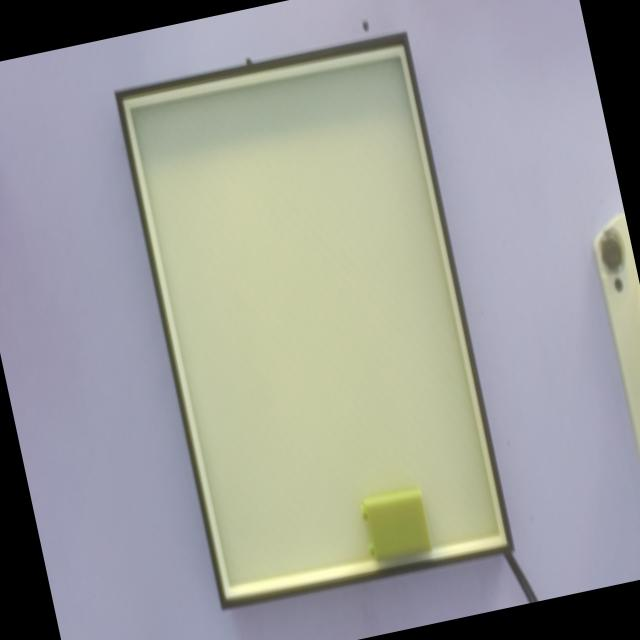bateria: (360, 488, 433, 562)
mesa: (114, 30, 515, 611)
